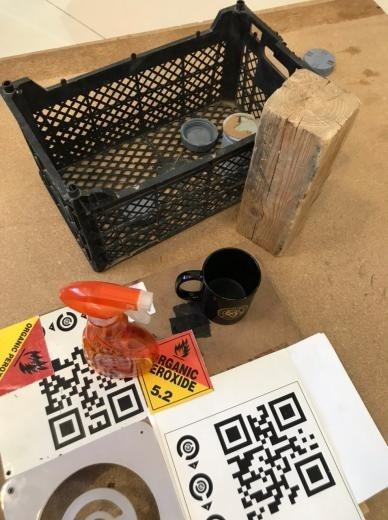organic-peroxide: (131, 327, 216, 414), (1, 314, 55, 400)
